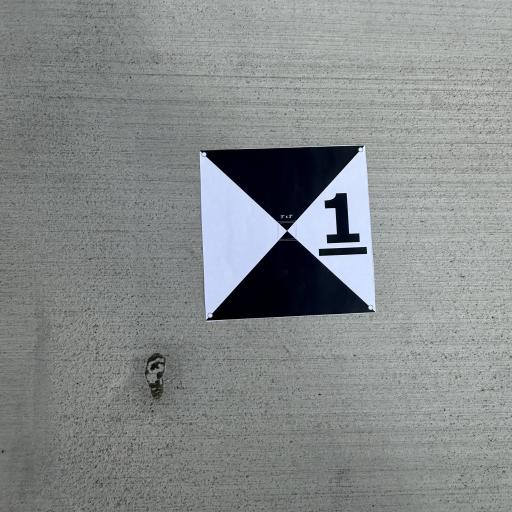target1: (190, 140, 384, 330)
